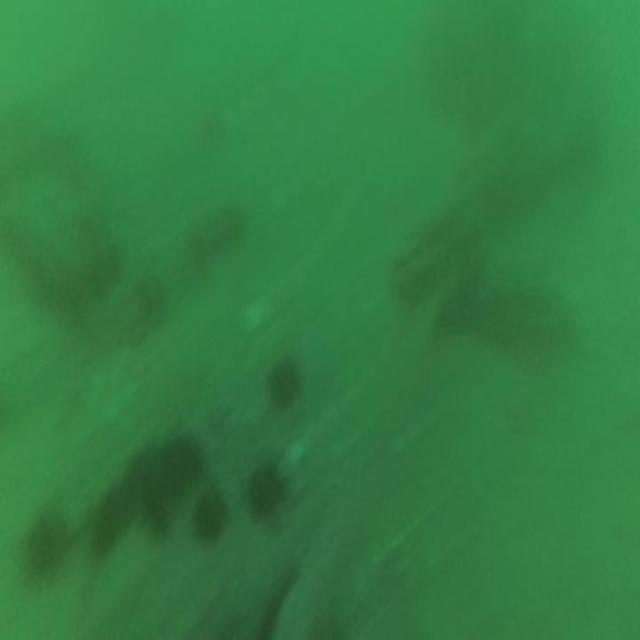echinus: (79, 464, 136, 569), (119, 450, 174, 553), (151, 423, 212, 498), (240, 453, 295, 532), (185, 478, 235, 554), (25, 509, 67, 580), (266, 356, 300, 414)
